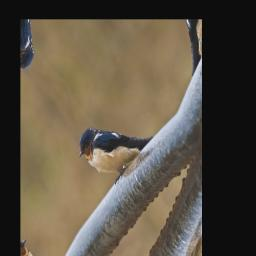Swallow: (72, 84, 154, 202)
